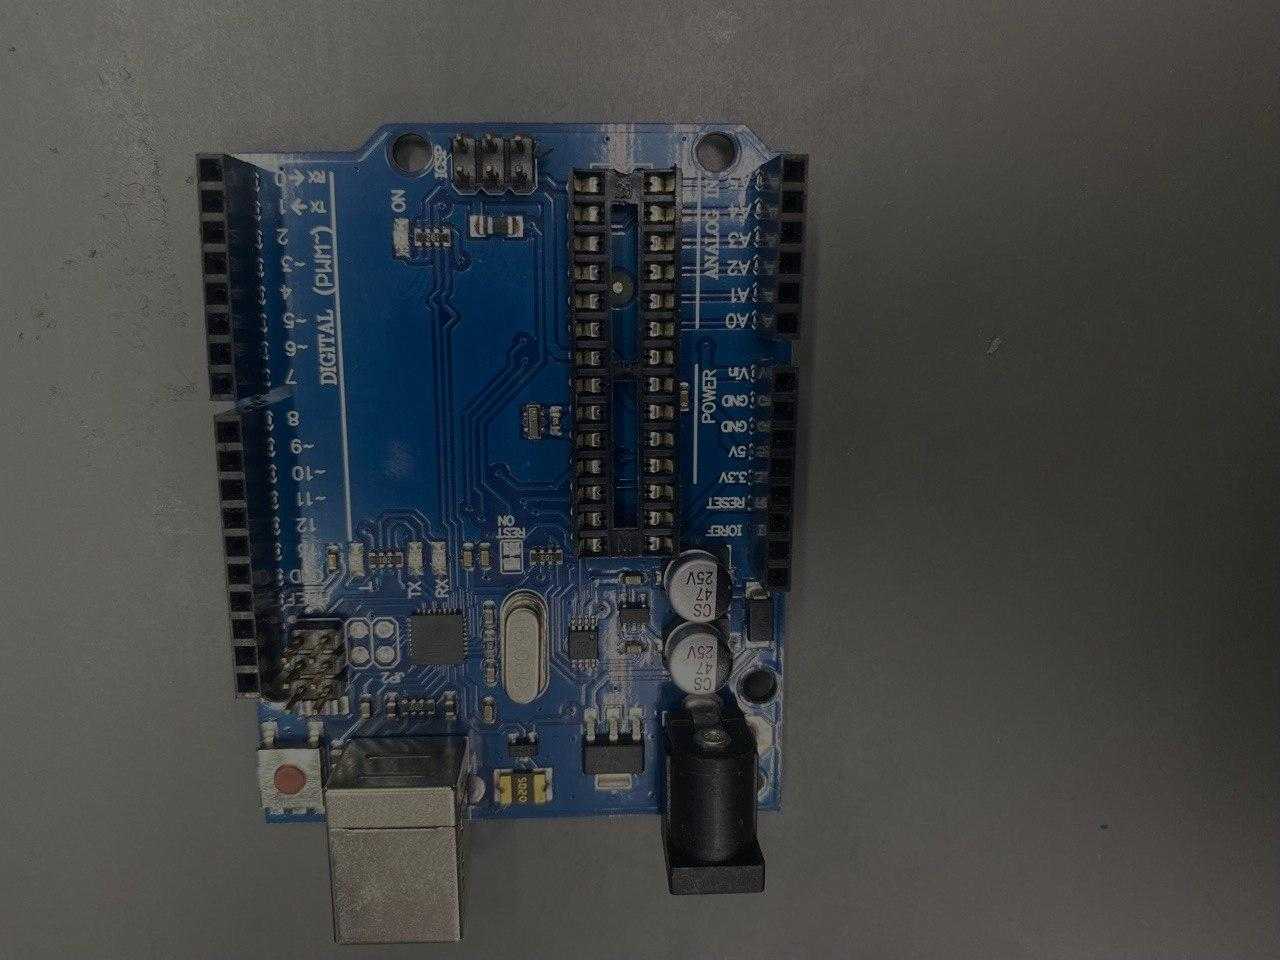Arduino board: (195, 123, 811, 946)
USB: (324, 736, 473, 945)
capacitor: (660, 545, 735, 623), (661, 615, 734, 693)
pins: (214, 404, 285, 699), (196, 152, 269, 401), (748, 360, 799, 592), (754, 153, 810, 341)
resistor: (413, 226, 452, 248), (368, 550, 405, 571), (529, 546, 563, 567), (401, 697, 437, 716)
